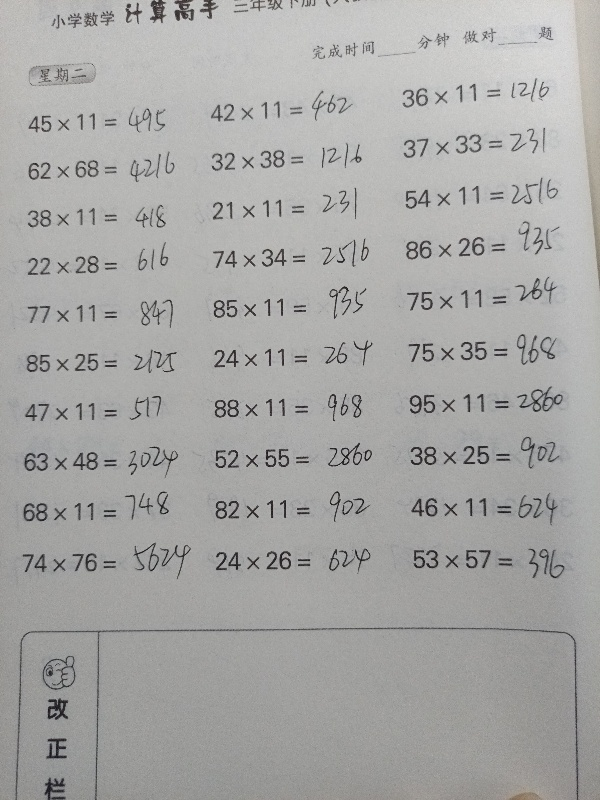equation: (403, 481, 583, 528), (15, 436, 195, 482), (401, 327, 581, 373), (203, 89, 383, 132), (405, 220, 576, 265), (14, 487, 194, 529), (401, 382, 581, 423), (396, 175, 576, 216), (16, 241, 198, 281), (394, 124, 574, 164), (20, 101, 200, 140), (209, 285, 384, 325), (207, 543, 387, 578), (398, 282, 578, 317), (203, 142, 383, 177), (393, 76, 573, 111), (13, 545, 193, 579), (405, 542, 585, 576), (207, 493, 387, 527), (206, 441, 386, 475), (401, 438, 581, 472), (205, 391, 385, 425), (203, 241, 383, 275), (16, 396, 196, 429), (17, 346, 197, 379), (205, 341, 385, 374), (19, 297, 199, 330), (19, 201, 199, 234), (203, 193, 383, 226), (19, 153, 199, 186)
